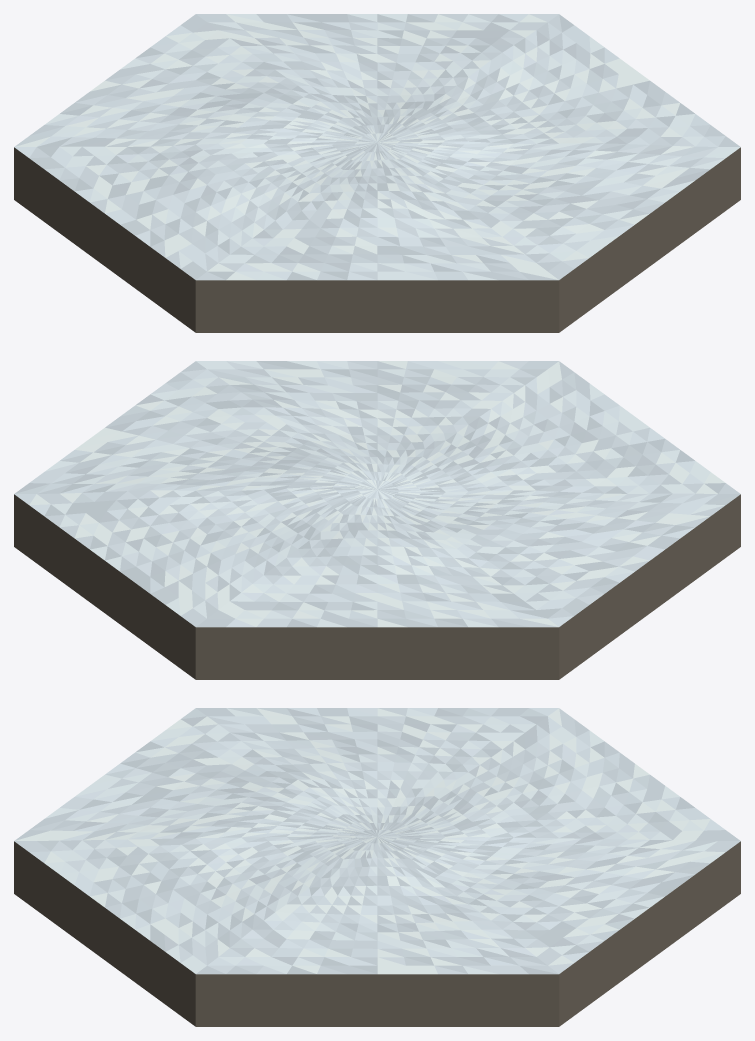
Rendered from TERRAIN_SNOW_v00.fbx.
3 renders of one model, top to bottom at view 1: azimuth 30°, elevation 25°; view 2: azimuth 150°, elevation 25°; view 3: azimuth 270°, elevation 25°, orthographic.
Parts seen in each view (by area): view 1: TERRAIN_SNOW_v00; view 2: TERRAIN_SNOW_v00; view 3: TERRAIN_SNOW_v00.
Part boxes in pixels (x1,y1,x2,y2): TERRAIN_SNOW_v00: (14,14,740,332); TERRAIN_SNOW_v00: (14,361,740,679); TERRAIN_SNOW_v00: (14,708,740,1026).
Bounding box in the file's own units: 173 × 18.41 × 200.
